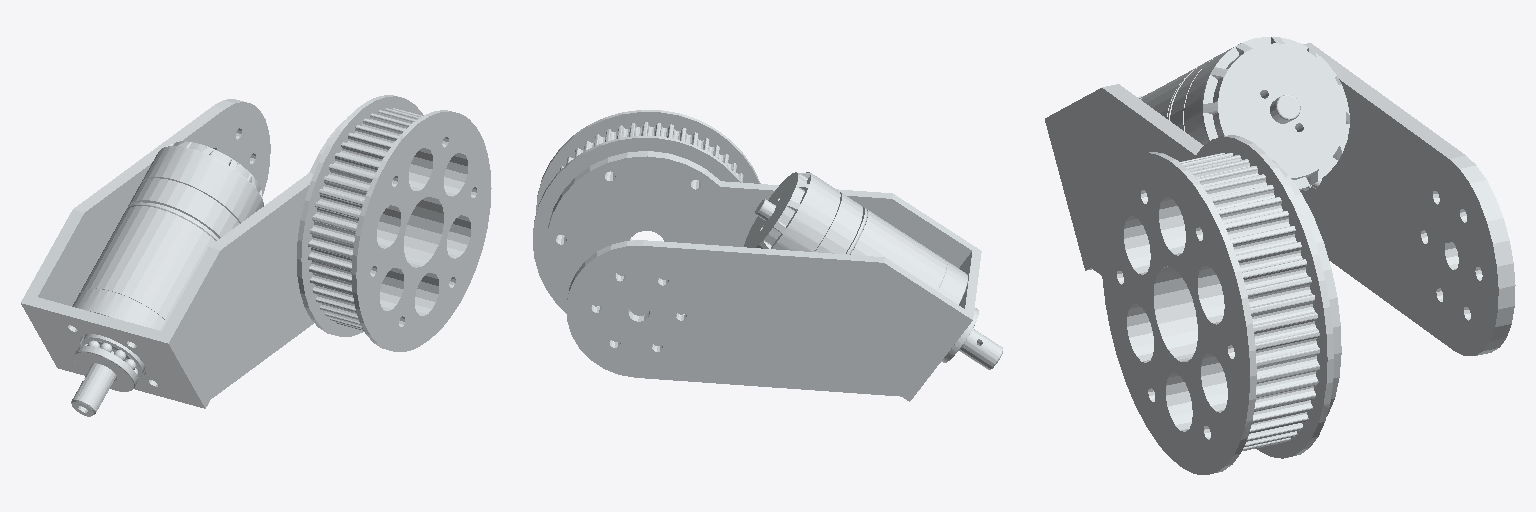
URDF robot description (rm_arm):
<?xml version="1.0" encoding="utf-8"?>
<!-- This URDF was automatically created by SolidWorks to URDF Exporter! Originally created by [author] ([email redacted]) 
     Commit Version: 1.6.0-1-g15f4949  Build Version: 1.6.7594.29634
     For more information, please see http://wiki.ros.org/sw_urdf_exporter -->
<robot
  name="rm_arm">
  <link
    name="base_link">
    <inertial>
      <origin
        xyz="-0.080503 0.0035113 0.016265"
        rpy="0 0 0" />
      <mass
        value="0.5853" />
      <inertia
        ixx="0.00038102"
        ixy="6.0454E-06"
        ixz="-3.1755E-08"
        iyy="0.00051883"
        iyz="5.5652E-09"
        izz="0.0008751" />
    </inertial>
    <visual>
      <origin
        xyz="0 0 0"
        rpy="0 0 0" />
      <geometry>
        <mesh
          filename="package://rm_arm/meshes/base_link.STL" />
      </geometry>
      <material
        name="">
        <color
          rgba="0.33333 0.33333 0.33333 1" />
      </material>
    </visual>
    <collision>
      <origin
        xyz="0 0 0"
        rpy="0 0 0" />
      <geometry>
        <mesh
          filename="package://rm_arm/meshes/base_link.STL" />
      </geometry>
    </collision>
  </link>
  <link
    name="Link_1">
    <inertial>
      <origin
        xyz="2.7281E-05 0.0022326 0.092049"
        rpy="0 0 0" />
      <mass
        value="1.5075" />
      <inertia
        ixx="0.0010176"
        ixy="8.2456E-09"
        ixz="-3.7005E-07"
        iyy="0.0018978"
        iyz="7.4212E-08"
        izz="0.0012474" />
    </inertial>
    <visual>
      <origin
        xyz="0 0 0"
        rpy="0 0 0" />
      <geometry>
        <mesh
          filename="package://rm_arm/meshes/Link_1.STL" />
      </geometry>
      <material
        name="">
        <color
          rgba="0.79216 0.81961 0.93333 1" />
      </material>
    </visual>
    <collision>
      <origin
        xyz="0 0 0"
        rpy="0 0 0" />
      <geometry>
        <mesh
          filename="package://rm_arm/meshes/Link_1.STL" />
      </geometry>
    </collision>
  </link>
  <joint
    name="Joint_1"
    type="revolute">
    <origin
      xyz="-0.12088 0.0052779 0.0145"
      rpy="0 0 0.47036" />
    <parent
      link="base_link" />
    <child
      link="Link_1" />
    <axis
      xyz="0 0 1" />
    <limit
      lower="-3.14"
      upper="3.14"
      effort="80"
      velocity="25" />
  </joint>
  <link
    name="Link_2">
    <inertial>
      <origin
        xyz="0.000292500655580858 0.180365674657187 0.0562795140433986"
        rpy="0 0 0" />
      <mass
        value="0.728670490361224" />
      <inertia
        ixx="0.000804471529449478"
        ixy="1.99485127410755E-05"
        ixz="-3.73633199110893E-08"
        iyy="0.000266076398816204"
        iyz="-8.03511541284116E-08"
        izz="0.000993614124728688" />
    </inertial>
    <visual>
      <origin
        xyz="0 0 0"
        rpy="0 0 0" />
      <geometry>
        <mesh
          filename="package://rm_arm/meshes/Link_2.STL" />
      </geometry>
      <material
        name="">
        <color
          rgba="0.792156862745098 0.819607843137255 0.933333333333333 1" />
      </material>
    </visual>
    <collision>
      <origin
        xyz="0 0 0"
        rpy="0 0 0" />
      <geometry>
        <mesh
          filename="package://rm_arm/meshes/Link_2.STL" />
      </geometry>
    </collision>
  </link>
  <joint
    name="Joint_2"
    type="revolute">
    <origin
      xyz="0 0.078 0.0963"
      rpy="1.5708 -0.82195 0" />
    <parent
      link="Link_1" />
    <child
      link="Link_2" />
    <axis
      xyz="0 0 1" />
    <limit
      lower="-3.14"
      upper="3.14"
      effort="80"
      velocity="25" />
  </joint>
  <link
    name="Link_3">
    <inertial>
      <origin
        xyz="-0.053132 -4.1282E-11 -0.017583"
        rpy="0 0 0" />
      <mass
        value="0.15481" />
      <inertia
        ixx="3.3921E-05"
        ixy="-2.091E-13"
        ixz="-1.5035E-18"
        iyy="0.00060814"
        iyz="2.7105E-20"
        izz="0.00064142" />
    </inertial>
    <visual>
      <origin
        xyz="0 0 0"
        rpy="0 0 0" />
      <geometry>
        <mesh
          filename="package://rm_arm/meshes/Link_3.STL" />
      </geometry>
      <material
        name="">
        <color
          rgba="0.79216 0.81961 0.93333 1" />
      </material>
    </visual>
    <collision>
      <origin
        xyz="0 0 0"
        rpy="0 0 0" />
      <geometry>
        <mesh
          filename="package://rm_arm/meshes/Link_3.STL" />
      </geometry>
    </collision>
  </link>
  <joint
    name="Joint_3"
    type="revolute">
    <origin
      xyz="0 0.2 0"
      rpy="0 0 -0.2083" />
    <parent
      link="Link_2" />
    <child
      link="Link_3" />
    <axis
      xyz="0 0 1" />
    <limit
      lower="-3.14"
      upper="3.14"
      effort="80"
      velocity="25" />
  </joint>
  <link
    name="Link_4">
    <inertial>
      <origin
        xyz="0.054727 9.2973E-05 -0.015197"
        rpy="0 0 0" />
      <mass
        value="0.64557" />
      <inertia
        ixx="0.00021111"
        ixy="-2.1598E-06"
        ixz="-9.7806E-09"
        iyy="0.00030955"
        iyz="-4.208E-08"
        izz="0.0004044" />
    </inertial>
    <visual>
      <origin
        xyz="0 0 0"
        rpy="0 0 0" />
      <geometry>
        <mesh
          filename="package://rm_arm/meshes/Link_4.STL" />
      </geometry>
      <material
        name="">
        <color
          rgba="0.89804 0.91765 0.92941 1" />
      </material>
    </visual>
    <collision>
      <origin
        xyz="0 0 0"
        rpy="0 0 0" />
      <geometry>
        <mesh
          filename="package://rm_arm/meshes/Link_4.STL" />
      </geometry>
    </collision>
  </link>
  <joint
    name="Joint_4"
    type="revolute">
    <origin
      xyz="-0.1575 0 0"
      rpy="3.1416 0 2.5279" />
    <parent
      link="Link_3" />
    <child
      link="Link_4" />
    <axis
      xyz="0 0 1" />
    <limit
      lower="-3.14"
      upper="3.14"
      effort="80"
      velocity="25" />
  </joint>
  <link
    name="Link_5">
    <inertial>
      <origin
        xyz="-0.0037794 -0.002534 -0.031782"
        rpy="0 0 0" />
      <mass
        value="0.51072" />
      <inertia
        ixx="0.00041878"
        ixy="-0.00018891"
        ixz="-2.6197E-06"
        iyy="0.0006406"
        iyz="4.537E-06"
        izz="0.000494" />
    </inertial>
    <visual>
      <origin
        xyz="0 0 0"
        rpy="0 0 0" />
      <geometry>
        <mesh
          filename="package://rm_arm/meshes/Link_5.STL" />
      </geometry>
      <material
        name="">
        <color
          rgba="1 1 1 1" />
      </material>
    </visual>
    <collision>
      <origin
        xyz="0 0 0"
        rpy="0 0 0" />
      <geometry>
        <mesh
          filename="package://rm_arm/meshes/Link_5.STL" />
      </geometry>
    </collision>
  </link>
  <joint
    name="Joint_5"
    type="revolute">
    <origin
      xyz="0.12802 -0.0274 -0.0015"
      rpy="1.5708 -0.7854 -2.1735" />
    <parent
      link="Link_4" />
    <child
      link="Link_5" />
    <axis
      xyz="0 0 1" />
    <limit
      lower="-3.14"
      upper="3.14"
      effort="80"
      velocity="25" />
  </joint>
</robot>

--- Facts derived from the render (not from the file) ---
Views: 3 orthographic renders of the robot side by side, from view 1: azimuth 30°, elevation 25°; view 2: azimuth 150°, elevation 25°; view 3: azimuth 270°, elevation 25°.
Robot: rm_arm — 6 links, 5 joints (5 revolute); root link base_link; default pose: every joint at zero.
Visible links, largest first — view 1: Link_4; view 2: Link_4; view 3: Link_4.
Link boxes in pixels (bbox=[...]): Link_4: bbox=[21, 95, 491, 416]; Link_4: bbox=[533, 110, 1002, 401]; Link_4: bbox=[1045, 37, 1515, 474].
Size in the robot's own frame: 0.1905 by 0.1248 by 0.0867 metres.
1 mesh visuals loaded from 6 distinct referenced files (1 binary STL); not drawn: 5 (reference not matched to a file when rendering).